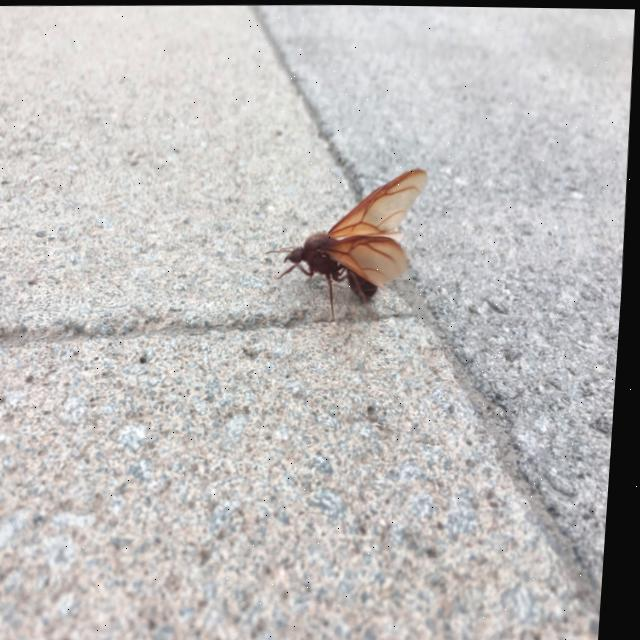Alive-Female-Alate: (263, 165, 433, 323)
